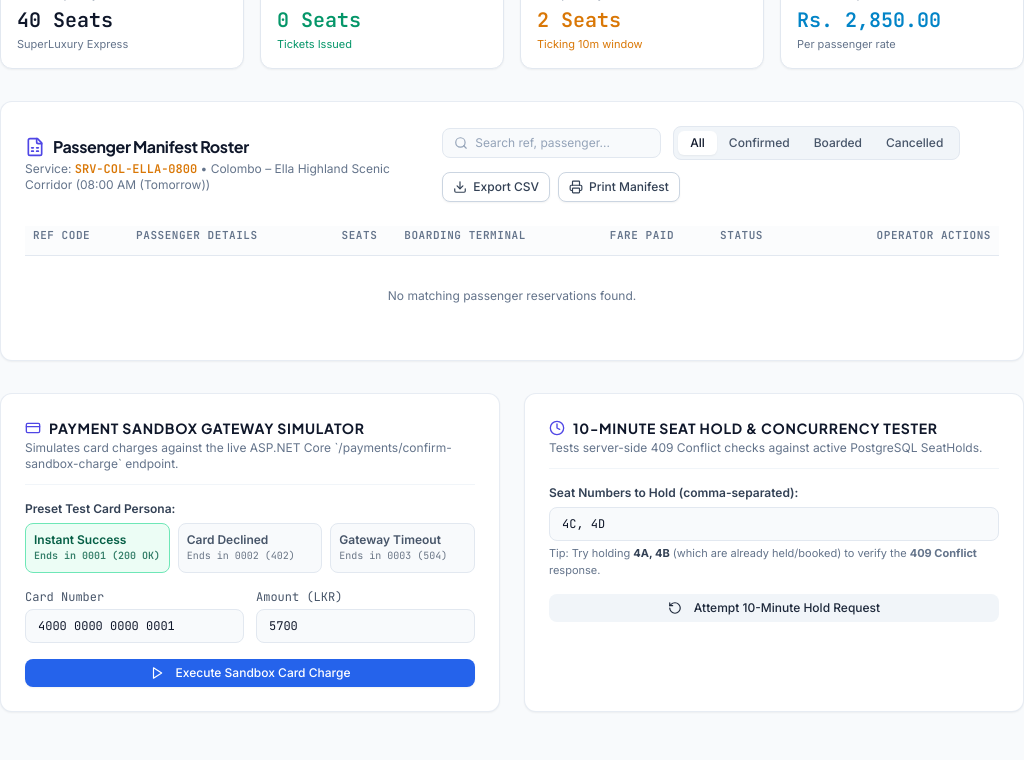
Scenario: Booking & Manifest Frontend Suite › updates sandbox test card preset when card chip is clicked
(page scrolled)
# Find and click the "Decline (0002)" preset button
Click the text "Card Declined" at (228, 540), box [187, 532, 268, 547]
(page scrolled)
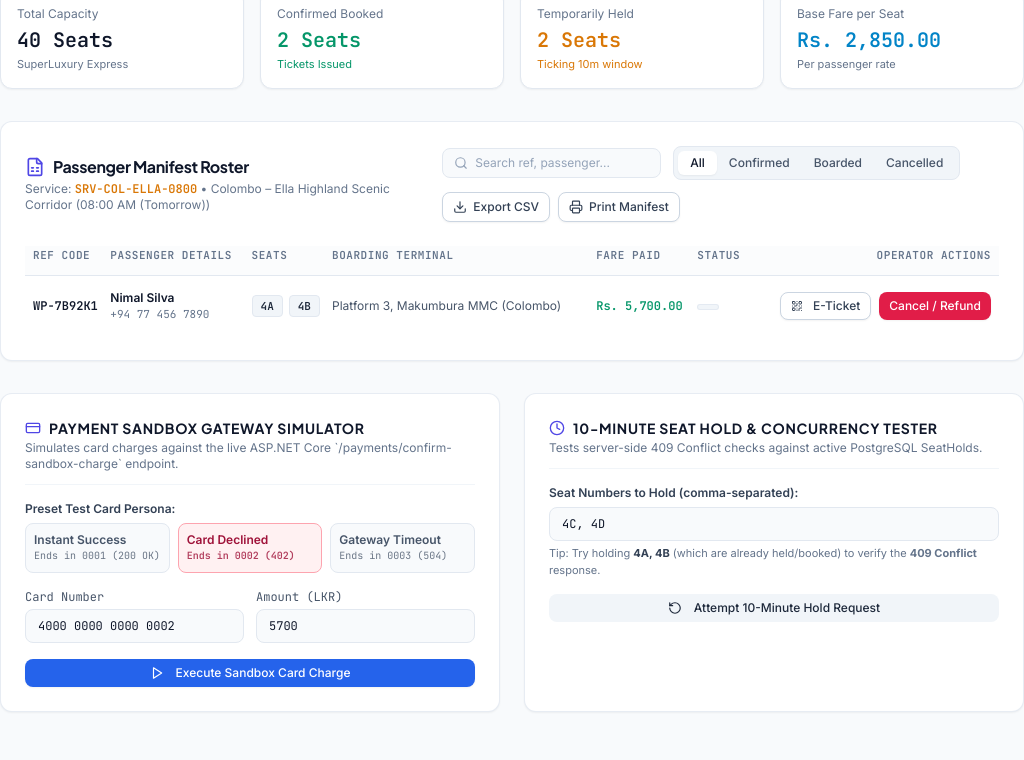
Expected: the field showing "4000 0000 0000 0002" below "Card Number" is shown, [25, 609, 244, 643]
